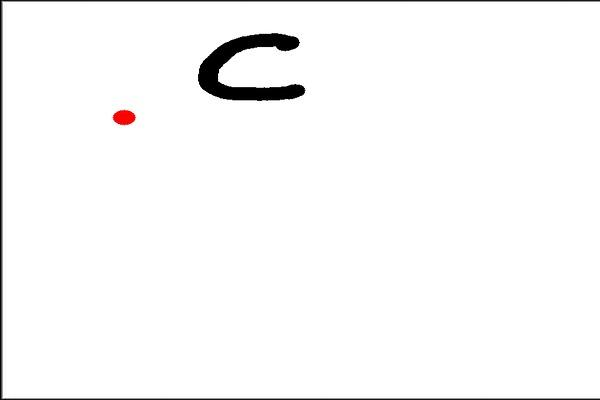C: (194, 25, 310, 105)
